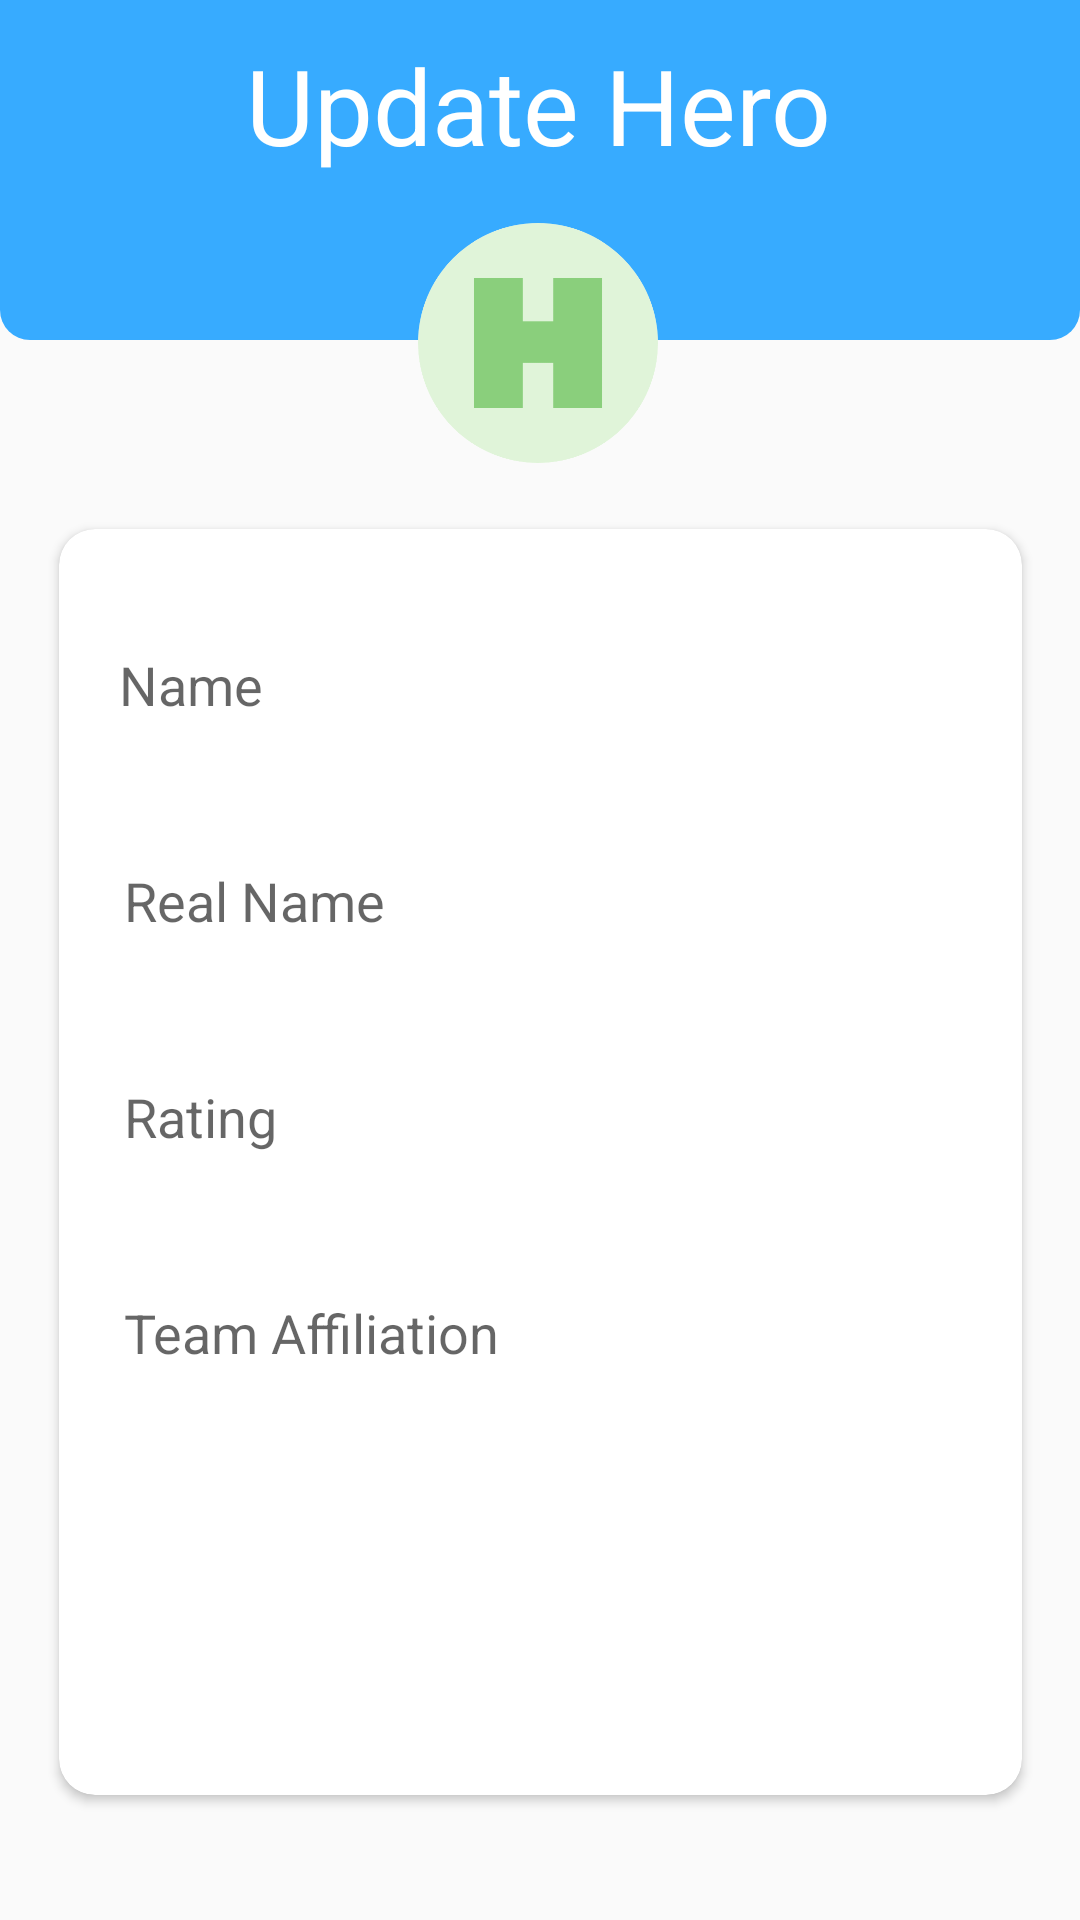

Icon click points for this 1080w x 1920h phone screenshot, format (x,y):
herocircle: (538,343)
